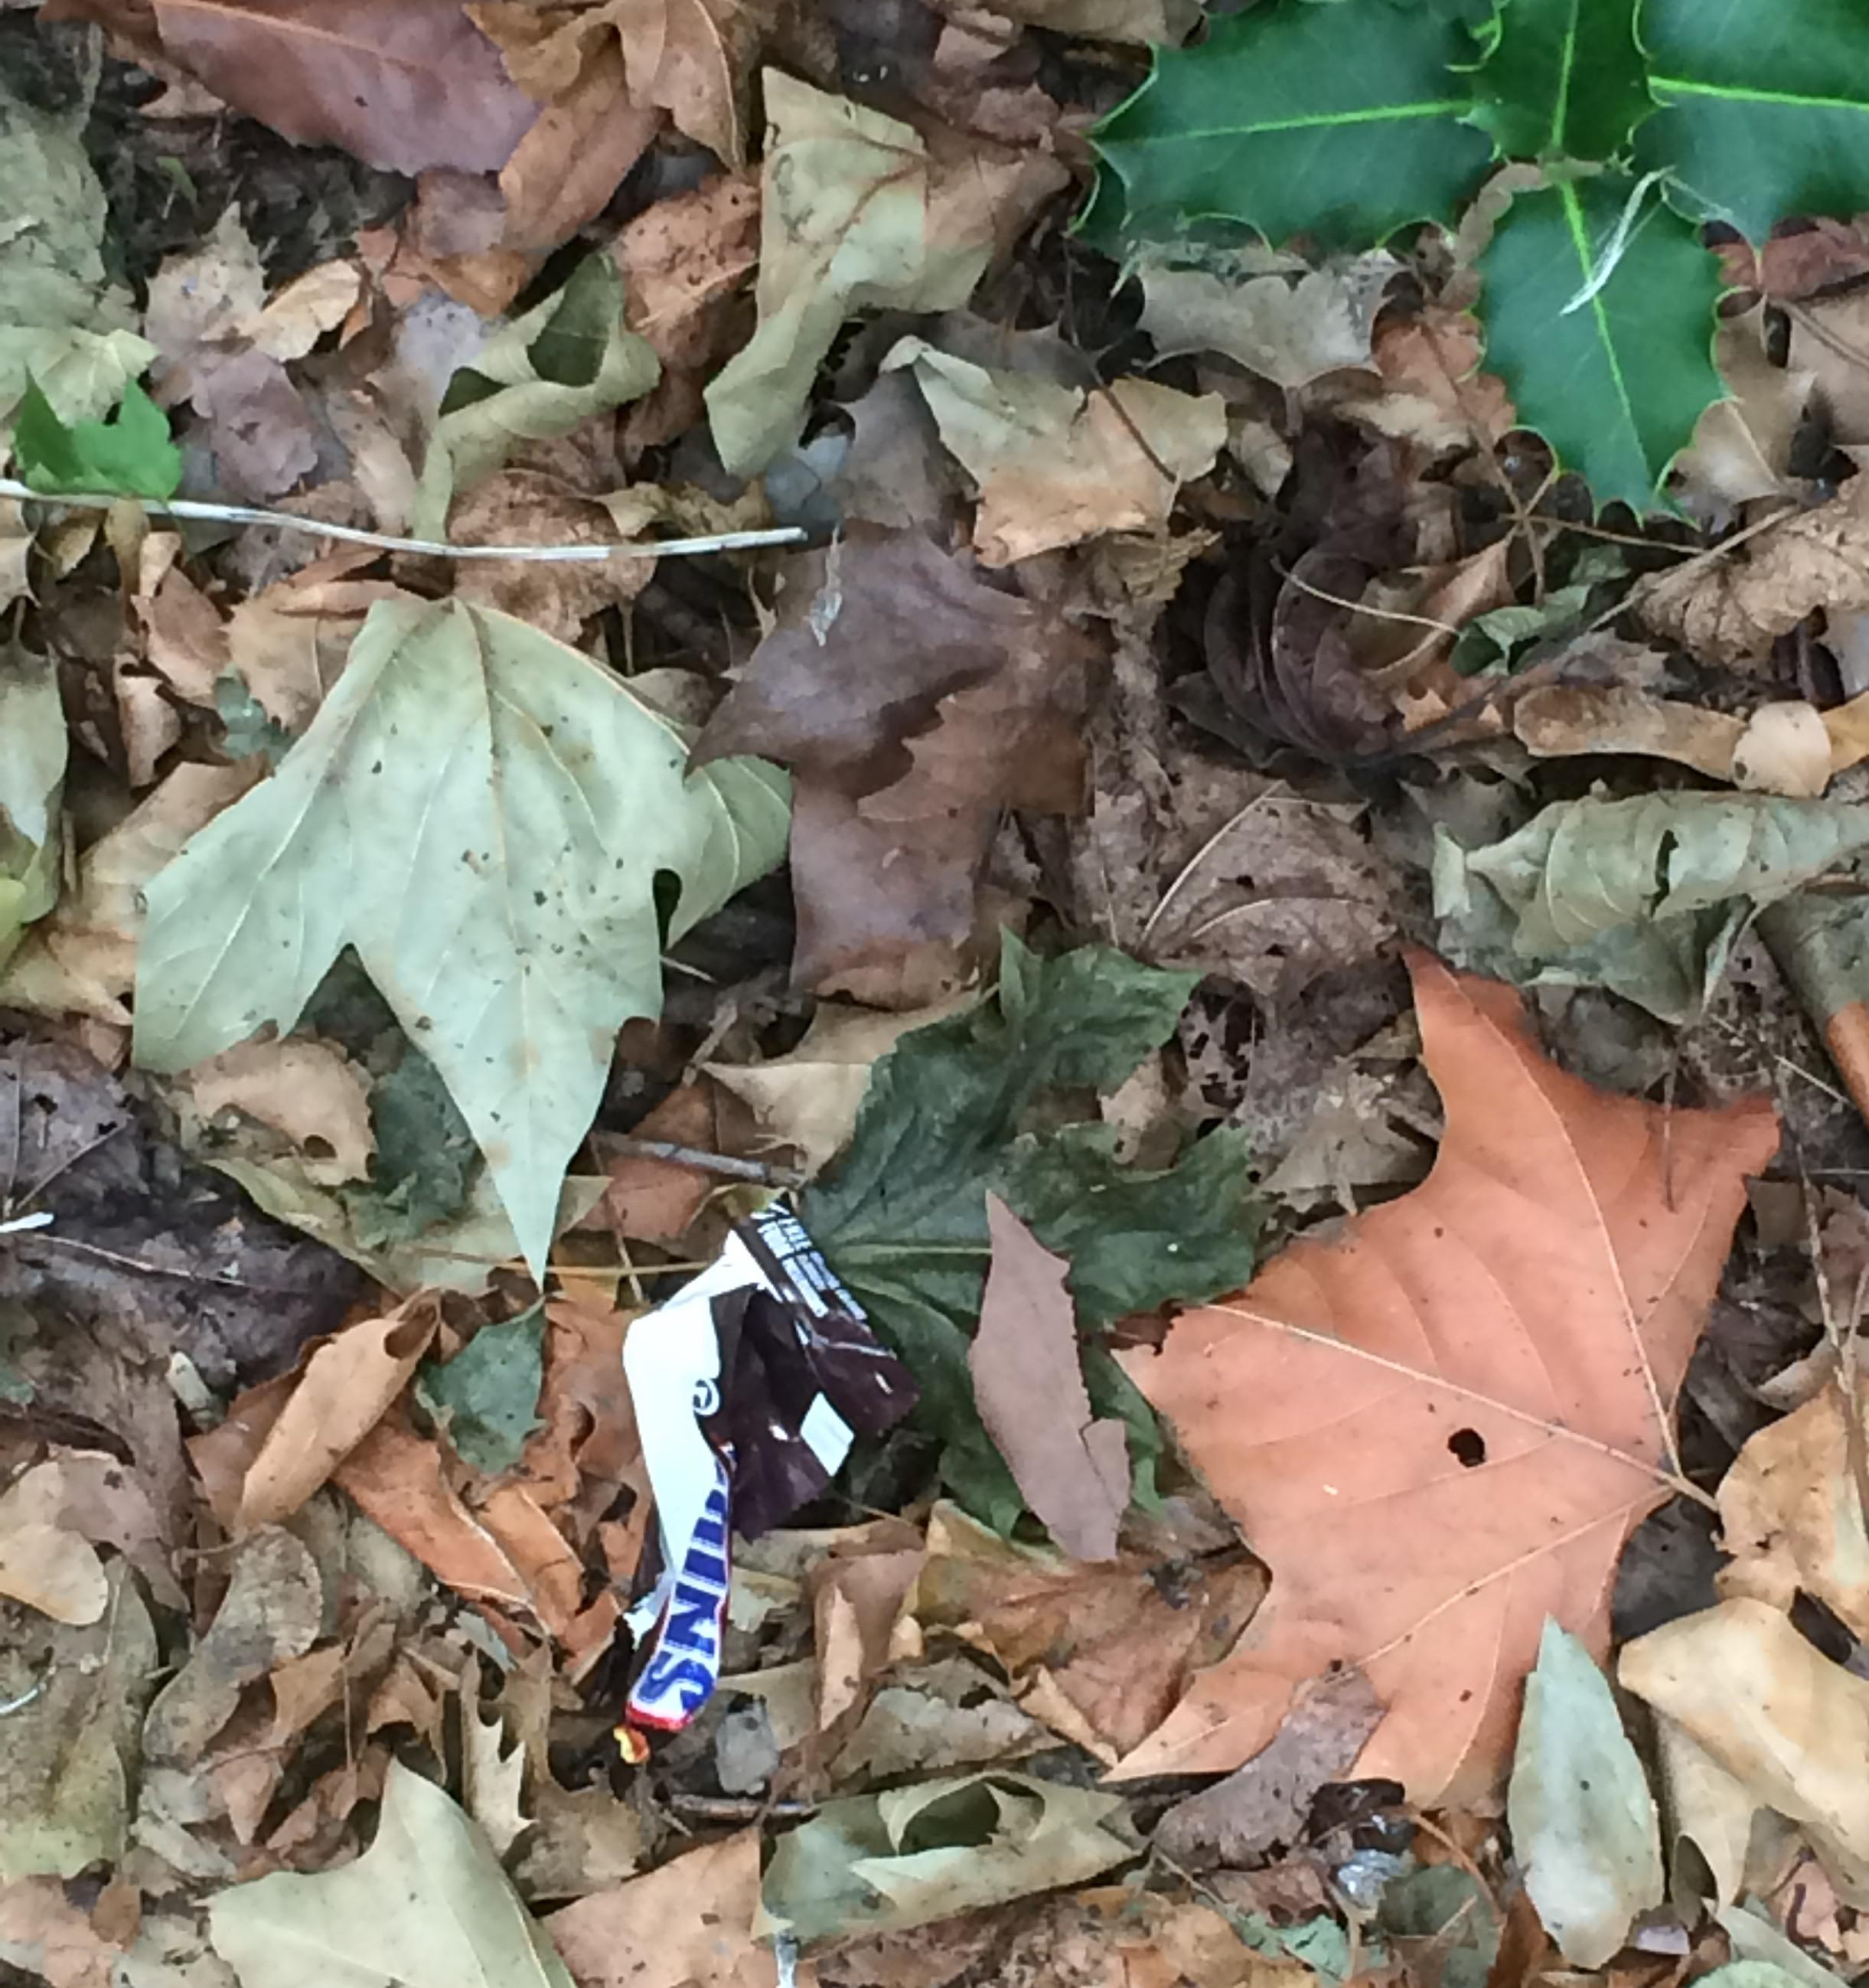Trash: (576, 1187, 920, 1761)
